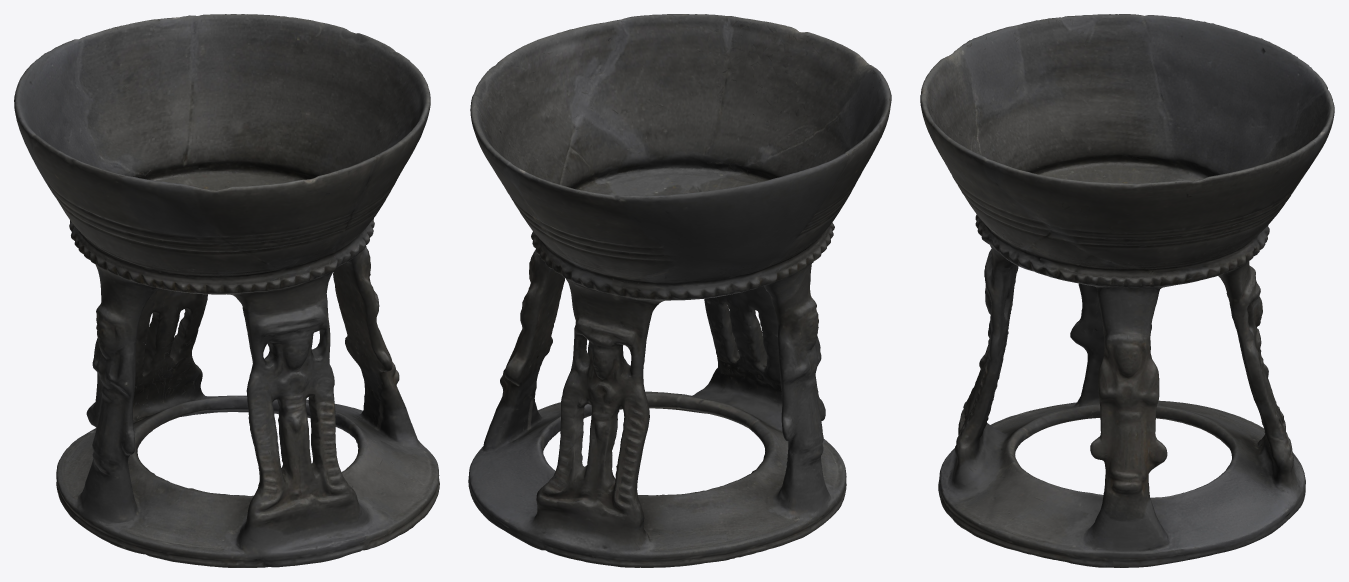
Rendered from bucchero_caryatid.glb.
3 views of the same model, side by side, from view 1: azimuth 30°, elevation 25°; view 2: azimuth 150°, elevation 25°; view 3: azimuth 270°, elevation 25° (orthographic). The views are drawn at different scales.
Visible parts, largest first — view 1: Chalice_3178_1_gameready_0; view 2: Chalice_3178_1_gameready_0; view 3: Chalice_3178_1_gameready_0.
Part boxes in pixels (x1,y1,x2,y2): Chalice_3178_1_gameready_0: [14, 14, 439, 567]; Chalice_3178_1_gameready_0: [468, 14, 891, 567]; Chalice_3178_1_gameready_0: [920, 14, 1334, 567].
Size of the model in its own units: 0.1649 by 0.1701 by 0.1662.
Materials: 1 (1 with a texture image).
